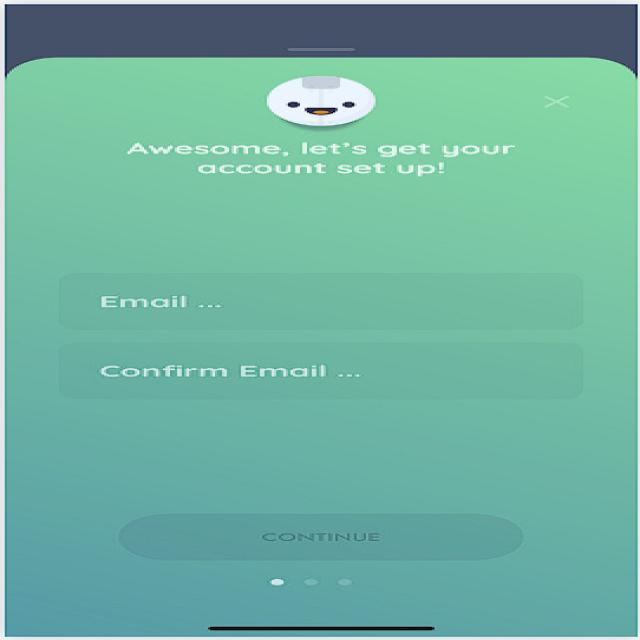button: (86, 501, 552, 570)
icon button: (541, 82, 599, 118)
input: (48, 260, 606, 333), (48, 334, 609, 402)
text: (86, 136, 550, 184)
view: (214, 72, 444, 133)
